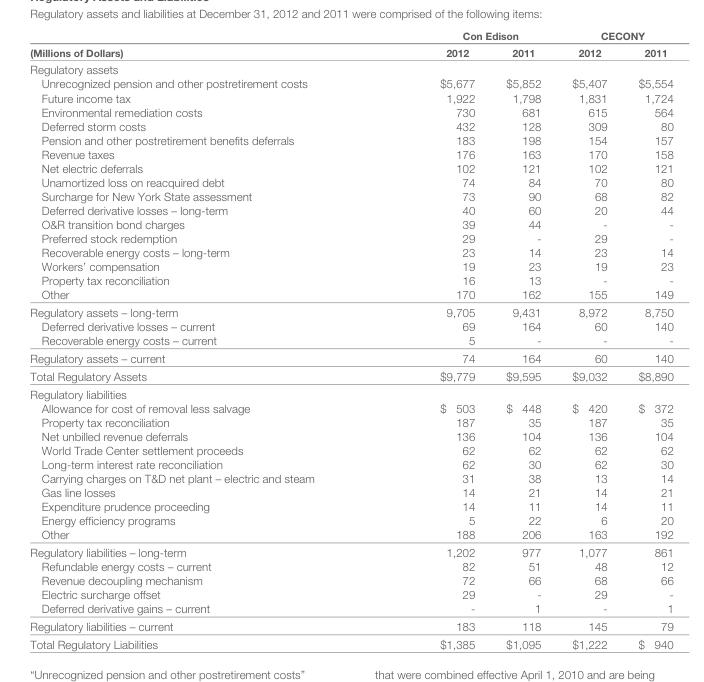table: (29, 28, 672, 650)
table column: (29, 28, 376, 650), (376, 28, 489, 650), (555, 28, 622, 650), (489, 28, 555, 650), (622, 28, 672, 650)
table column header: (29, 28, 672, 60)
table projected row header: (29, 60, 672, 76), (29, 384, 672, 400)
table row: (29, 348, 672, 366), (29, 366, 672, 384), (29, 616, 672, 634), (29, 43, 672, 60), (29, 60, 672, 76), (29, 286, 672, 302), (29, 302, 672, 318), (29, 332, 672, 348), (29, 384, 672, 400), (29, 526, 672, 542), (29, 542, 672, 558), (29, 600, 672, 616), (29, 634, 672, 650), (29, 28, 672, 43), (29, 76, 672, 90), (29, 90, 672, 104), (29, 104, 672, 118), (29, 118, 672, 132), (29, 132, 672, 146), (29, 146, 672, 160), (29, 160, 672, 174), (29, 174, 672, 188), (29, 188, 672, 202), (29, 202, 672, 216), (29, 216, 672, 230), (29, 230, 672, 244), (29, 244, 672, 258), (29, 258, 672, 272), (29, 272, 672, 286), (29, 318, 672, 332), (29, 400, 672, 414), (29, 414, 672, 428), (29, 428, 672, 442), (29, 442, 672, 456), (29, 456, 672, 470), (29, 470, 672, 484), (29, 484, 672, 498), (29, 498, 672, 512), (29, 512, 672, 526), (29, 558, 672, 572), (29, 572, 672, 586), (29, 586, 672, 600)
table spanning cell: (29, 28, 376, 60), (376, 28, 555, 43), (555, 28, 672, 43)
